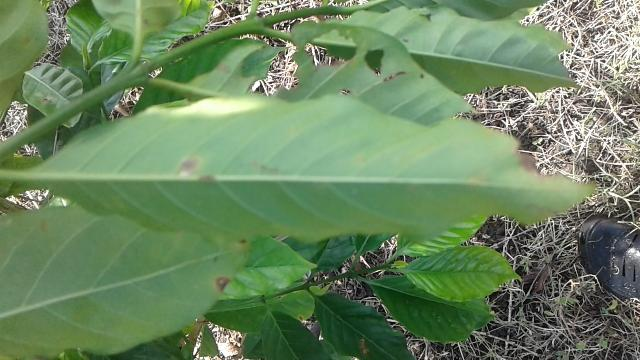rust_level_1: (25, 94, 596, 243)
